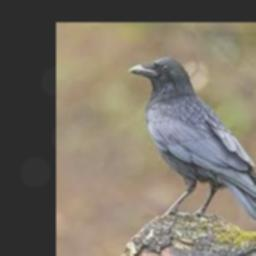Crow: (128, 56, 256, 228)
